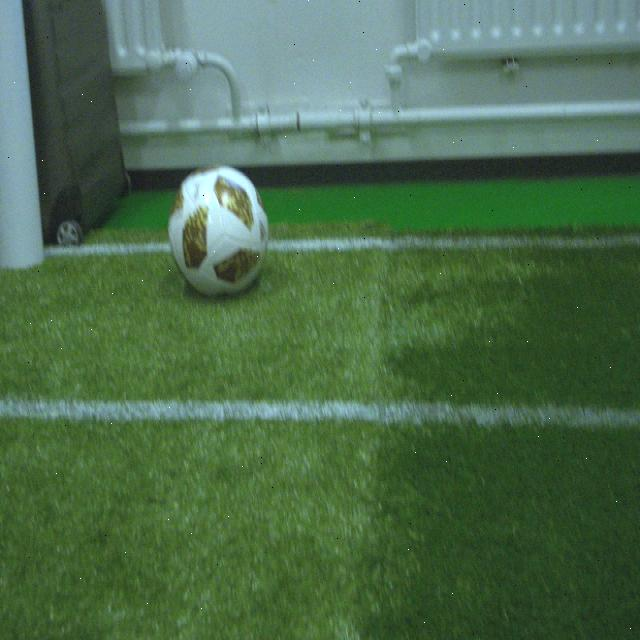ball: (172, 167, 268, 293)
goalpost: (3, 0, 47, 269)
